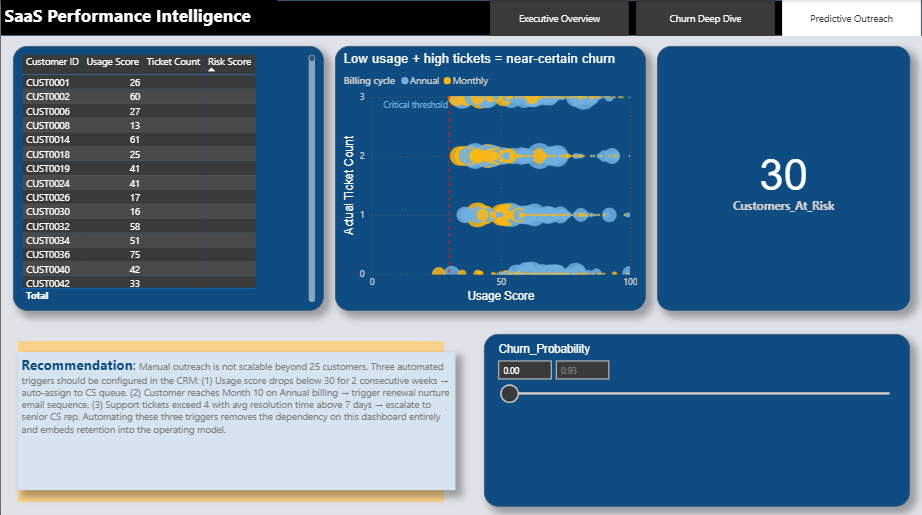

The page's visual inventory and layout, read from the dashboard file:
{"tool":"powerbi","page":{"name":"Predictive Outreach","canvas":[1280,720],"ordinal":2},"visuals":[{"type":"tableEx","fields":{"Values":["customers.customer_id","customers.usage_score","high_risk_customers_v2.actual_ticket_count","high_risk_customers_v2.Churn_Probability"]},"box":[16,64,432,368],"z":0},{"type":"slicer","fields":{"Values":["high_risk_customers_v2.Churn_Probability"]},"box":[672,464,592,240],"z":1000},{"type":"scatterChart","title":"Low usage + high tickets = near-certain churn","fields":{"X":["customers.usage_score"],"Y":["high_risk_customers_v2.actual_ticket_count"],"Size":["Avg(high_risk_customers_v2.Churn_Probability)"],"Series":["high_risk_customers_v2.billing_cycle"]},"box":[464,64,432,368],"z":2000},{"type":"shape","box":[0,0,1280,50],"z":3000},{"type":"pageNavigator","box":[680,0,600,50],"z":4000},{"type":"textbox","box":[64,0,384,48],"z":5000},{"type":"card","fields":{"Values":["high_risk_customers_v3.Customers_At_Risk"]},"box":[912,64,352,368],"z":6000},{"type":"shape","box":[23.5,473.8,592,224],"z":7000},{"type":"textbox","box":[23.5,489.8,608,192],"z":8000}]}

Visuals, with their boxes in screenshot pixels (x1, y1, x2, y2), scaled from the page's 1280x720 canvas onto the 922x515 screenshot:
tableEx - customers.customer_id x customers.usage_score: bbox(12, 46, 323, 309)
slicer - high_risk_customers_v2.Churn_Probability: bbox(484, 332, 910, 504)
"Low usage + high tickets = near-certain churn" scatterChart: bbox(334, 46, 645, 309)
shape: bbox(0, 0, 921, 36)
pageNavigator: bbox(490, 0, 921, 36)
textbox: bbox(46, 0, 323, 34)
card - high_risk_customers_v3.Customers_At_Risk: bbox(657, 46, 910, 309)
shape: bbox(17, 339, 443, 499)
textbox: bbox(17, 350, 455, 488)
